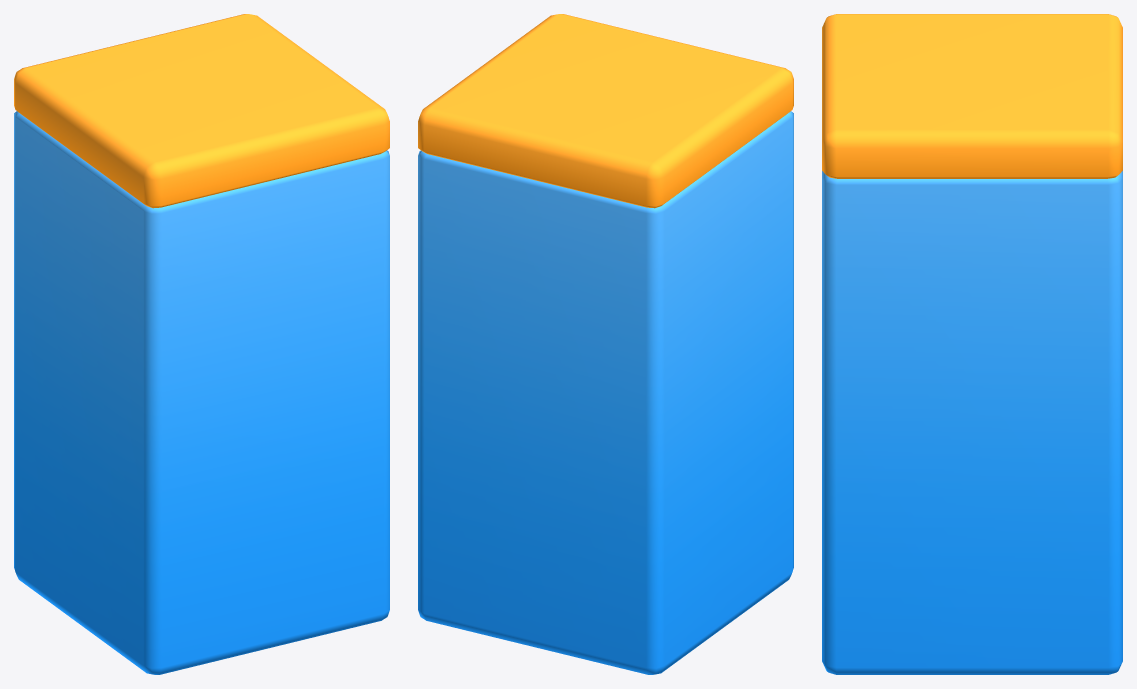
Rendered from Platform_23.glb.
3 renders of one model, left to right at view 1: azimuth 30°, elevation 25°; view 2: azimuth 150°, elevation 25°; view 3: azimuth 270°, elevation 25°, orthographic. The views are drawn at different scales.
Parts seen in each view (by area): view 1: Platform_23; view 2: Platform_23; view 3: Platform_23.
Boxes of the visible parts, x1,y1,x2,y2 form: Platform_23: (14, 14, 389, 674); Platform_23: (418, 14, 793, 674); Platform_23: (822, 14, 1122, 674).
Bounding box in the file's own units: 6 × 12 × 6.
Materials: 1 (1 with a texture image).
